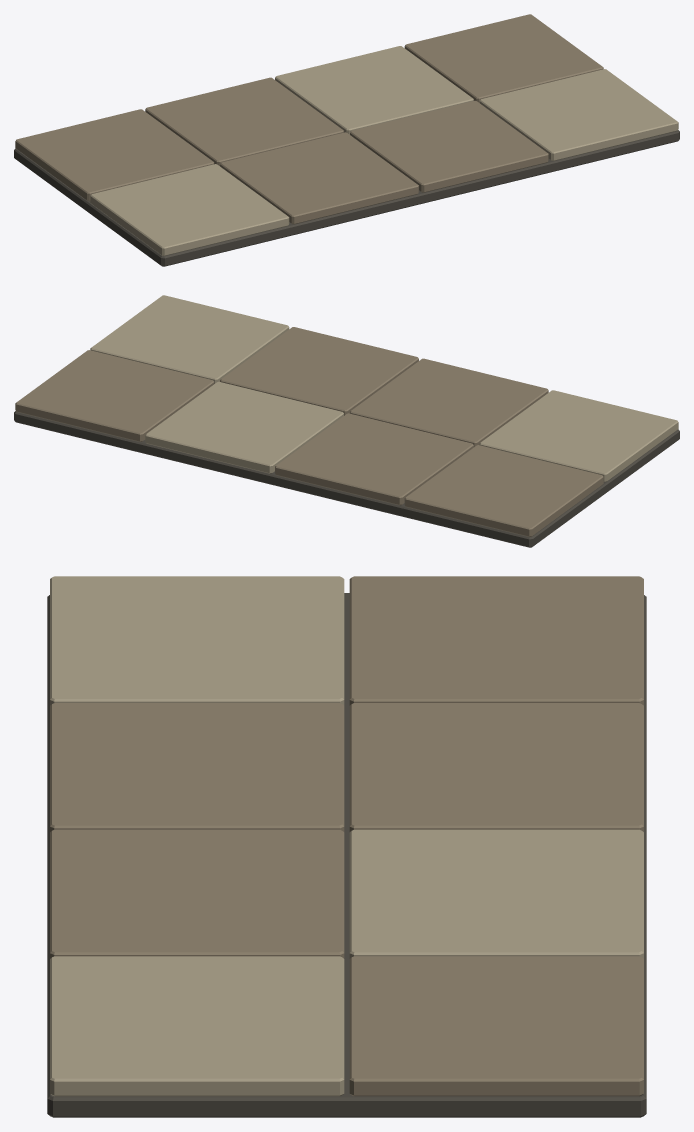
Rendered from floor-large.glb.
The picture shows the model from 3 angles, top to bottom: view 1: azimuth 30°, elevation 25°; view 2: azimuth 150°, elevation 25°; view 3: azimuth 270°, elevation 25°; orthographic projection. The views are drawn at different scales.
Parts seen in each view (by area): view 1: floor-large__body; view 2: floor-large__body; view 3: floor-large__body.
Part boxes in pixels (left/top/right/bottom): floor-large__body: left=14, top=14, right=679, bottom=266; floor-large__body: left=14, top=295, right=679, bottom=547; floor-large__body: left=47, top=576, right=646, bottom=1117.
Size of the model in its own units: 4 by 0.14 by 2.
